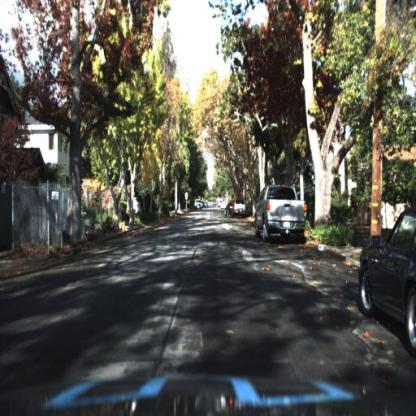car: (358, 204, 416, 355), (253, 175, 314, 253), (253, 186, 310, 244), (232, 198, 248, 222), (234, 200, 250, 221), (226, 202, 237, 215)
